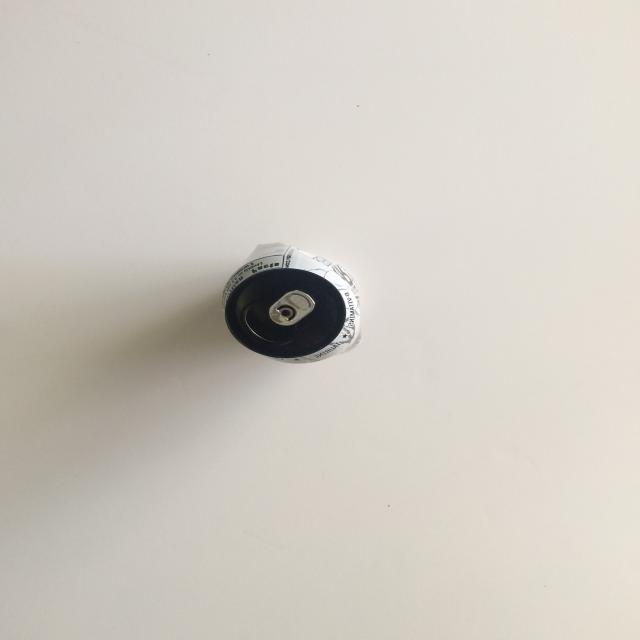metal: (221, 241, 363, 364)
